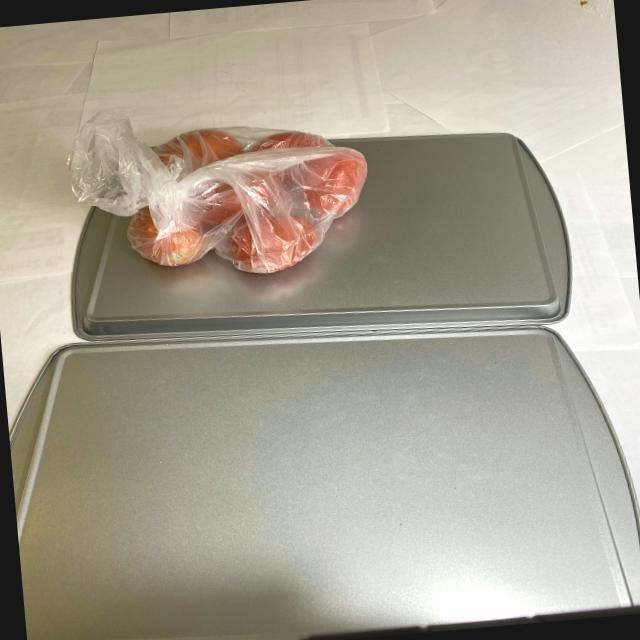tomato: (113, 117, 382, 292)
